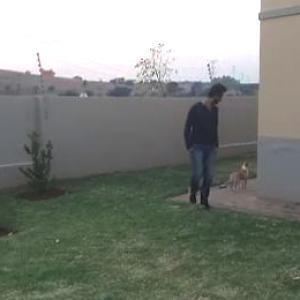follow: (185, 76, 226, 216)
